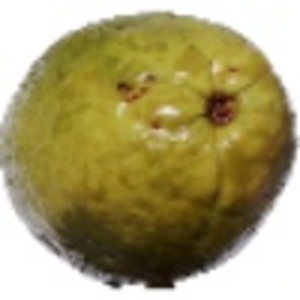goiaba: (5, 8, 299, 278)
